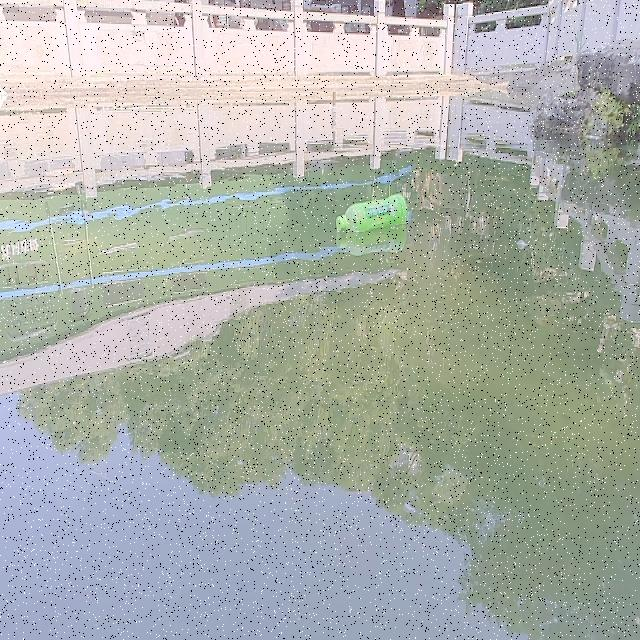Bottle: (331, 189, 412, 235)
